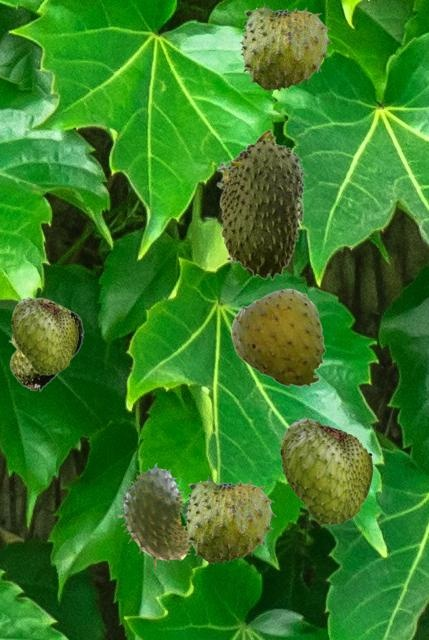guyabano: (216, 128, 307, 279), (280, 416, 372, 524), (229, 288, 325, 388), (239, 3, 331, 90), (183, 476, 275, 563), (118, 463, 192, 568), (8, 297, 83, 391), (11, 296, 77, 374)
